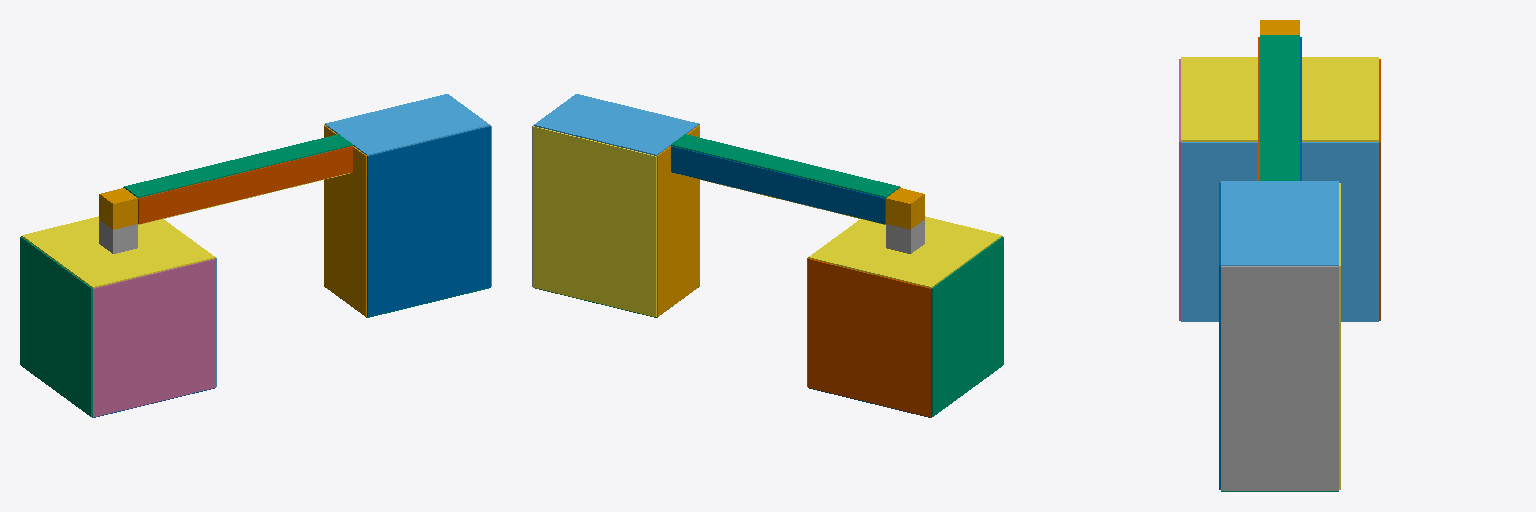
robot.urdf — robot:
<?xml version="1.0"?>
    <robot name="robot">


    <!-- body -->
    <link name="body">
        <inertial>
            <origin xyz="0 0 0" rpy="0 0 0"/>
            <mass value="100"/>
            <inertia ixx="15" ixy="0" ixz="0" iyy="15" iyz="0" izz="15"/>
        </inertial>
        <visual>
            <origin xyz="0 0 0" rpy="0 0 0"/>
            <geometry>
                <box size="1 1 1"/>
            </geometry>
        </visual>
        <collision>
            <origin xyz="0 0 0" rpy="0 0 0"/>
            <geometry>
                <box size="1 1 1"/>
            </geometry>
        </collision>
    </link>


    <!-- body_sensor_0_start -->
    <link name="body_sensor_0_start">
        <inertial>
            <origin xyz="0 0 0" rpy="0 0 0"/>
            <mass value="0"/>
            <inertia ixx="0" ixy="0" ixz="0" iyy="0" iyz="0" izz="0"/>
        </inertial>
        <visual>
            <origin xyz="0 0 0" rpy="0 0 0"/>
            <geometry>
                <box size="0.02 1 1"/>
            </geometry>
        </visual>
        <collision>
            <origin xyz="0 0 0" rpy="0 0 0"/>
            <geometry>
                <box size="0.02 1 1"/>
            </geometry>
        </collision>
    </link>
    <!-- Joint: body, body_sensor_0_start -->
    <joint name="body_body_sensor_0_start_joint" type="fixed">
        <parent link="body"/>
        <child link="body_sensor_0_start"/>
        <origin xyz="0.5 0 0"
                rpy="0 0 0"/>
        <axis xyz="0 0 1"/>
        
    </joint>


    <!-- body_sensor_0_stop -->
    <link name="body_sensor_0_stop">
        <inertial>
            <origin xyz="0 0 0" rpy="0 0 0"/>
            <mass value="0"/>
            <inertia ixx="0" ixy="0" ixz="0" iyy="0" iyz="0" izz="0"/>
        </inertial>
        <visual>
            <origin xyz="0 0 0" rpy="0 0 0"/>
            <geometry>
                <box size="0.02 1 1"/>
            </geometry>
        </visual>
        <collision>
            <origin xyz="0 0 0" rpy="0 0 0"/>
            <geometry>
                <box size="0.02 1 1"/>
            </geometry>
        </collision>
    </link>
    <!-- Joint: body, body_sensor_0_stop -->
    <joint name="body_body_sensor_0_stop_joint" type="fixed">
        <parent link="body"/>
        <child link="body_sensor_0_stop"/>
        <origin xyz="-0.5 0 0"
                rpy="0 0 0"/>
        <axis xyz="0 0 1"/>
        
    </joint>


    <!-- body_sensor_0_top -->
    <link name="body_sensor_0_top">
        <inertial>
            <origin xyz="0 0 0" rpy="0 0 0"/>
            <mass value="0"/>
            <inertia ixx="0" ixy="0" ixz="0" iyy="0" iyz="0" izz="0"/>
        </inertial>
        <visual>
            <origin xyz="0 0 0" rpy="0 0 0"/>
            <geometry>
                <box size="1.0 1 0.02"/>
            </geometry>
        </visual>
        <collision>
            <origin xyz="0 0 0" rpy="0 0 0"/>
            <geometry>
                <box size="1.0 1 0.02"/>
            </geometry>
        </collision>
    </link>
    <!-- Joint: body, body_sensor_0_top -->
    <joint name="body_body_sensor_0_top_joint" type="fixed">
        <parent link="body"/>
        <child link="body_sensor_0_top"/>
        <origin xyz="0 0 0.5"
                rpy="0 0 0"/>
        <axis xyz="0 0 1"/>
        
    </joint>


    <!-- body_sensor_0_bottom -->
    <link name="body_sensor_0_bottom">
        <inertial>
            <origin xyz="0 0 0" rpy="0 0 0"/>
            <mass value="0"/>
            <inertia ixx="0" ixy="0" ixz="0" iyy="0" iyz="0" izz="0"/>
        </inertial>
        <visual>
            <origin xyz="0 0 0" rpy="0 0 0"/>
            <geometry>
                <box size="1.0 1 0.02"/>
            </geometry>
        </visual>
        <collision>
            <origin xyz="0 0 0" rpy="0 0 0"/>
            <geometry>
                <box size="1.0 1 0.02"/>
            </geometry>
        </collision>
    </link>
    <!-- Joint: body, body_sensor_0_bottom -->
    <joint name="body_body_sensor_0_bottom_joint" type="fixed">
        <parent link="body"/>
        <child link="body_sensor_0_bottom"/>
        <origin xyz="0 0 -0.5"
                rpy="0 0 0"/>
        <axis xyz="0 0 1"/>
        
    </joint>


    <!-- body_sensor_0_left -->
    <link name="body_sensor_0_left">
        <inertial>
            <origin xyz="0 0 0" rpy="0 0 0"/>
            <mass value="0"/>
            <inertia ixx="0" ixy="0" ixz="0" iyy="0" iyz="0" izz="0"/>
        </inertial>
        <visual>
            <origin xyz="0 0 0" rpy="0 0 0"/>
            <geometry>
                <box size="1.0 0.02 1"/>
            </geometry>
        </visual>
        <collision>
            <origin xyz="0 0 0" rpy="0 0 0"/>
            <geometry>
                <box size="1.0 0.02 1"/>
            </geometry>
        </collision>
    </link>
    <!-- Joint: body, body_sensor_0_left -->
    <joint name="body_body_sensor_0_left_joint" type="fixed">
        <parent link="body"/>
        <child link="body_sensor_0_left"/>
        <origin xyz="0 0.5 0"
                rpy="0 0 0"/>
        <axis xyz="0 0 1"/>
        
    </joint>


    <!-- body_sensor_0_right -->
    <link name="body_sensor_0_right">
        <inertial>
            <origin xyz="0 0 0" rpy="0 0 0"/>
            <mass value="0"/>
            <inertia ixx="0" ixy="0" ixz="0" iyy="0" iyz="0" izz="0"/>
        </inertial>
        <visual>
            <origin xyz="0 0 0" rpy="0 0 0"/>
            <geometry>
                <box size="1.0 0.02 1"/>
            </geometry>
        </visual>
        <collision>
            <origin xyz="0 0 0" rpy="0 0 0"/>
            <geometry>
                <box size="1.0 0.02 1"/>
            </geometry>
        </collision>
    </link>
    <!-- Joint: body, body_sensor_0_right -->
    <joint name="body_body_sensor_0_right_joint" type="fixed">
        <parent link="body"/>
        <child link="body_sensor_0_right"/>
        <origin xyz="0 -0.5 0"
                rpy="0 0 0"/>
        <axis xyz="0 0 1"/>
        
    </joint>


    <!-- joint_1 -->
    <link name="joint_1">
        <inertial>
            <origin xyz="0 0 0" rpy="0 0 0"/>
            <mass value="2"/>
            <inertia ixx="0.01" ixy="0" ixz="0" iyy="0.01" iyz="0" izz="0.01"/>
        </inertial>
        <visual>
            <origin xyz="0 0 0" rpy="0 0 0"/>
            <geometry>
                <box size="0.2 0.2 0.2"/>
            </geometry>
        </visual>
        <collision>
            <origin xyz="0 0 0" rpy="0 0 0"/>
            <geometry>
                <box size="0.2 0.2 0.2"/>
            </geometry>
        </collision>
    </link>
    <!-- Joint: body, joint_1 -->
    <joint name="body_joint_1_joint" type="continuous">
        <parent link="body"/>
        <child link="joint_1"/>
        <origin xyz="0 0 0.6"
                rpy="0 0 0"/>
        <axis xyz="0 0 1"/>
        <limit lower="-0.7853981633974483" upper="0.7853981633974483" effort="999" velocity="999"/>
    </joint>


    <!-- joint_2 -->
    <link name="joint_2">
        <inertial>
            <origin xyz="0 0 0" rpy="0 0 0"/>
            <mass value="2"/>
            <inertia ixx="0.01" ixy="0" ixz="0" iyy="0.01" iyz="0" izz="0.01"/>
        </inertial>
        <visual>
            <origin xyz="0 0 0" rpy="0 0 0"/>
            <geometry>
                <box size="0.2 0.2 0.2"/>
            </geometry>
        </visual>
        <collision>
            <origin xyz="0 0 0" rpy="0 0 0"/>
            <geometry>
                <box size="0.2 0.2 0.2"/>
            </geometry>
        </collision>
    </link>
    <!-- Joint: joint_1, joint_2 -->
    <joint name="joint_1_joint_2_joint" type="continuous">
        <parent link="joint_1"/>
        <child link="joint_2"/>
        <origin xyz="0 0 0.2"
                rpy="0 0 0"/>
        <axis xyz="0 1 0"/>
        <limit lower="-1.5707963267948966" upper="0" effort="999" velocity="999"/>
    </joint>


    <!-- arm -->
    <link name="arm">
        <inertial>
            <origin xyz="0 0 0" rpy="0 0 0"/>
            <mass value="2"/>
            <inertia ixx="0.01" ixy="0" ixz="0" iyy="1.25" iyz="0" izz="1.25"/>
        </inertial>
        <visual>
            <origin xyz="0 0 0" rpy="0 0 0"/>
            <geometry>
                <box size="1.75 0.2 0.2"/>
            </geometry>
        </visual>
        <collision>
            <origin xyz="0 0 0" rpy="0 0 0"/>
            <geometry>
                <box size="1.75 0.2 0.2"/>
            </geometry>
        </collision>
    </link>


    <!-- arm_sensor_0_top -->
    <link name="arm_sensor_0_top">
        <inertial>
            <origin xyz="0 0 0" rpy="0 0 0"/>
            <mass value="0"/>
            <inertia ixx="0" ixy="0" ixz="0" iyy="0" iyz="0" izz="0"/>
        </inertial>
        <visual>
            <origin xyz="0 0 0" rpy="0 0 0"/>
            <geometry>
                <box size="1.75 0.2 0.02"/>
            </geometry>
        </visual>
        <collision>
            <origin xyz="0 0 0" rpy="0 0 0"/>
            <geometry>
                <box size="1.75 0.2 0.02"/>
            </geometry>
        </collision>
    </link>
    <!-- Joint: arm, arm_sensor_0_top -->
    <joint name="arm_arm_sensor_0_top_joint" type="fixed">
        <parent link="arm"/>
        <child link="arm_sensor_0_top"/>
        <origin xyz="0 0 0.1"
                rpy="0 0 0"/>
        <axis xyz="0 1 0"/>
        
    </joint>


    <!-- arm_sensor_0_bottom -->
    <link name="arm_sensor_0_bottom">
        <inertial>
            <origin xyz="0 0 0" rpy="0 0 0"/>
            <mass value="0"/>
            <inertia ixx="0" ixy="0" ixz="0" iyy="0" iyz="0" izz="0"/>
        </inertial>
        <visual>
            <origin xyz="0 0 0" rpy="0 0 0"/>
            <geometry>
                <box size="1.75 0.2 0.02"/>
            </geometry>
        </visual>
        <collision>
            <origin xyz="0 0 0" rpy="0 0 0"/>
            <geometry>
                <box size="1.75 0.2 0.02"/>
            </geometry>
        </collision>
    </link>
    <!-- Joint: arm, arm_sensor_0_bottom -->
    <joint name="arm_arm_sensor_0_bottom_joint" type="fixed">
        <parent link="arm"/>
        <child link="arm_sensor_0_bottom"/>
        <origin xyz="0 0 -0.1"
                rpy="0 0 0"/>
        <axis xyz="0 1 0"/>
        
    </joint>


    <!-- arm_sensor_0_left -->
    <link name="arm_sensor_0_left">
        <inertial>
            <origin xyz="0 0 0" rpy="0 0 0"/>
            <mass value="0"/>
            <inertia ixx="0" ixy="0" ixz="0" iyy="0" iyz="0" izz="0"/>
        </inertial>
        <visual>
            <origin xyz="0 0 0" rpy="0 0 0"/>
            <geometry>
                <box size="1.75 0.02 0.2"/>
            </geometry>
        </visual>
        <collision>
            <origin xyz="0 0 0" rpy="0 0 0"/>
            <geometry>
                <box size="1.75 0.02 0.2"/>
            </geometry>
        </collision>
    </link>
    <!-- Joint: arm, arm_sensor_0_left -->
    <joint name="arm_arm_sensor_0_left_joint" type="fixed">
        <parent link="arm"/>
        <child link="arm_sensor_0_left"/>
        <origin xyz="0 0.1 0"
                rpy="0 0 0"/>
        <axis xyz="0 1 0"/>
        
    </joint>


    <!-- arm_sensor_0_right -->
    <link name="arm_sensor_0_right">
        <inertial>
            <origin xyz="0 0 0" rpy="0 0 0"/>
            <mass value="0"/>
            <inertia ixx="0" ixy="0" ixz="0" iyy="0" iyz="0" izz="0"/>
        </inertial>
        <visual>
            <origin xyz="0 0 0" rpy="0 0 0"/>
            <geometry>
                <box size="1.75 0.02 0.2"/>
            </geometry>
        </visual>
        <collision>
            <origin xyz="0 0 0" rpy="0 0 0"/>
            <geometry>
                <box size="1.75 0.02 0.2"/>
            </geometry>
        </collision>
    </link>
    <!-- Joint: arm, arm_sensor_0_right -->
    <joint name="arm_arm_sensor_0_right_joint" type="fixed">
        <parent link="arm"/>
        <child link="arm_sensor_0_right"/>
        <origin xyz="0 -0.1 0"
                rpy="0 0 0"/>
        <axis xyz="0 1 0"/>
        
    </joint>
    <!-- Joint: joint_2, arm -->
    <joint name="joint_2_arm_joint" type="fixed">
        <parent link="joint_2"/>
        <child link="arm"/>
        <origin xyz="0.975 0 0"
                rpy="0 0 0"/>
        <axis xyz="0 1 0"/>
        
    </joint>


    <!-- hand -->
    <link name="hand">
        <inertial>
            <origin xyz="0 0 0" rpy="0 0 0"/>
            <mass value="2"/>
            <inertia ixx="0.05" ixy="0.05" ixz="0.05" iyy="0.05" iyz="0.05" izz="0.05"/>
        </inertial>
        <visual>
            <origin xyz="0 0 0" rpy="0 0 0"/>
            <geometry>
                <box size="1 0.6000000000000001 1.25"/>
            </geometry>
        </visual>
        <collision>
            <origin xyz="0 0 0" rpy="0 0 0"/>
            <geometry>
                <box size="1 0.6000000000000001 1.25"/>
            </geometry>
        </collision>
    </link>


    <!-- hand_sensor_0_start -->
    <link name="hand_sensor_0_start">
        <inertial>
            <origin xyz="0 0 0" rpy="0 0 0"/>
            <mass value="0"/>
            <inertia ixx="0" ixy="0" ixz="0" iyy="0" iyz="0" izz="0"/>
        </inertial>
        <visual>
            <origin xyz="0 0 0" rpy="0 0 0"/>
            <geometry>
                <box size="0.02 0.6000000000000001 1.25"/>
            </geometry>
        </visual>
        <collision>
            <origin xyz="0 0 0" rpy="0 0 0"/>
            <geometry>
                <box size="0.02 0.6000000000000001 1.25"/>
            </geometry>
        </collision>
    </link>
    <!-- Joint: hand, hand_sensor_0_start -->
    <joint name="hand_hand_sensor_0_start_joint" type="fixed">
        <parent link="hand"/>
        <child link="hand_sensor_0_start"/>
        <origin xyz="0.5 0 0"
                rpy="0 0 0"/>
        <axis xyz="0 1 0"/>
        
    </joint>


    <!-- hand_sensor_0_stop -->
    <link name="hand_sensor_0_stop">
        <inertial>
            <origin xyz="0 0 0" rpy="0 0 0"/>
            <mass value="0"/>
            <inertia ixx="0" ixy="0" ixz="0" iyy="0" iyz="0" izz="0"/>
        </inertial>
        <visual>
            <origin xyz="0 0 0" rpy="0 0 0"/>
            <geometry>
                <box size="0.02 0.6000000000000001 1.25"/>
            </geometry>
        </visual>
        <collision>
            <origin xyz="0 0 0" rpy="0 0 0"/>
            <geometry>
                <box size="0.02 0.6000000000000001 1.25"/>
            </geometry>
        </collision>
    </link>
    <!-- Joint: hand, hand_sensor_0_stop -->
    <joint name="hand_hand_sensor_0_stop_joint" type="fixed">
        <parent link="hand"/>
        <child link="hand_sensor_0_stop"/>
        <origin xyz="-0.5 0 0"
                rpy="0 0 0"/>
        <axis xyz="0 1 0"/>
        
    </joint>


    <!-- hand_sensor_0_top -->
    <link name="hand_sensor_0_top">
        <inertial>
            <origin xyz="0 0 0" rpy="0 0 0"/>
            <mass value="0"/>
            <inertia ixx="0" ixy="0" ixz="0" iyy="0" iyz="0" izz="0"/>
        </inertial>
        <visual>
            <origin xyz="0 0 0" rpy="0 0 0"/>
            <geometry>
                <box size="1.0 0.6000000000000001 0.02"/>
            </geometry>
        </visual>
        <collision>
            <origin xyz="0 0 0" rpy="0 0 0"/>
            <geometry>
                <box size="1.0 0.6000000000000001 0.02"/>
            </geometry>
        </collision>
    </link>
    <!-- Joint: hand, hand_sensor_0_top -->
    <joint name="hand_hand_sensor_0_top_joint" type="fixed">
        <parent link="hand"/>
        <child link="hand_sensor_0_top"/>
        <origin xyz="0 0 0.625"
                rpy="0 0 0"/>
        <axis xyz="0 1 0"/>
        
    </joint>


    <!-- hand_sensor_0_bottom -->
    <link name="hand_sensor_0_bottom">
        <inertial>
            <origin xyz="0 0 0" rpy="0 0 0"/>
            <mass value="0"/>
            <inertia ixx="0" ixy="0" ixz="0" iyy="0" iyz="0" izz="0"/>
        </inertial>
        <visual>
            <origin xyz="0 0 0" rpy="0 0 0"/>
            <geometry>
                <box size="1.0 0.6000000000000001 0.02"/>
            </geometry>
        </visual>
        <collision>
            <origin xyz="0 0 0" rpy="0 0 0"/>
            <geometry>
                <box size="1.0 0.6000000000000001 0.02"/>
            </geometry>
        </collision>
    </link>
    <!-- Joint: hand, hand_sensor_0_bottom -->
    <joint name="hand_hand_sensor_0_bottom_joint" type="fixed">
        <parent link="hand"/>
        <child link="hand_sensor_0_bottom"/>
        <origin xyz="0 0 -0.625"
                rpy="0 0 0"/>
        <axis xyz="0 1 0"/>
        
    </joint>


    <!-- hand_sensor_0_left -->
    <link name="hand_sensor_0_left">
        <inertial>
            <origin xyz="0 0 0" rpy="0 0 0"/>
            <mass value="0"/>
            <inertia ixx="0" ixy="0" ixz="0" iyy="0" iyz="0" izz="0"/>
        </inertial>
        <visual>
            <origin xyz="0 0 0" rpy="0 0 0"/>
            <geometry>
                <box size="1.0 0.02 1.25"/>
            </geometry>
        </visual>
        <collision>
            <origin xyz="0 0 0" rpy="0 0 0"/>
            <geometry>
                <box size="1.0 0.02 1.25"/>
            </geometry>
        </collision>
    </link>
    <!-- Joint: hand, hand_sensor_0_left -->
    <joint name="hand_hand_sensor_0_left_joint" type="fixed">
        <parent link="hand"/>
        <child link="hand_sensor_0_left"/>
        <origin xyz="0 0.30000000000000004 0"
                rpy="0 0 0"/>
        <axis xyz="0 1 0"/>
        
    </joint>


    <!-- hand_sensor_0_right -->
    <link name="hand_sensor_0_right">
        <inertial>
            <origin xyz="0 0 0" rpy="0 0 0"/>
            <mass value="0"/>
            <inertia ixx="0" ixy="0" ixz="0" iyy="0" iyz="0" izz="0"/>
        </inertial>
        <visual>
            <origin xyz="0 0 0" rpy="0 0 0"/>
            <geometry>
                <box size="1.0 0.02 1.25"/>
            </geometry>
        </visual>
        <collision>
            <origin xyz="0 0 0" rpy="0 0 0"/>
            <geometry>
                <box size="1.0 0.02 1.25"/>
            </geometry>
        </collision>
    </link>
    <!-- Joint: hand, hand_sensor_0_right -->
    <joint name="hand_hand_sensor_0_right_joint" type="fixed">
        <parent link="hand"/>
        <child link="hand_sensor_0_right"/>
        <origin xyz="0 -0.30000000000000004 0"
                rpy="0 0 0"/>
        <axis xyz="0 1 0"/>
        
    </joint>
    <!-- Joint: arm, hand -->
    <joint name="arm_hand_joint" type="fixed">
        <parent link="arm"/>
        <child link="hand"/>
        <origin xyz="1.375 0 -0.525"
                rpy="0 0 0"/>
        <axis xyz="0 1 0"/>
        
    </joint>


</robot>

--- Facts derived from the render (not from the file) ---
The picture shows the robot from 3 angles, left to right: view 1: azimuth 30°, elevation 25°; view 2: azimuth 150°, elevation 25°; view 3: azimuth 270°, elevation 25°; orthographic projection.
Model robot with 21 links and 20 joints (2 continuous, 18 fixed), rooted at body, posed every joint at zero.
Visible links, largest first — view 1: hand_sensor_0_right, body_sensor_0_right, body_sensor_0_stop, body_sensor_0_top, hand_sensor_0_stop, arm_sensor_0_right, hand_sensor_0_top, arm_sensor_0_top, joint_2, joint_1; view 2: hand_sensor_0_left, body_sensor_0_left, body_sensor_0_stop, body_sensor_0_top, hand_sensor_0_stop, arm_sensor_0_left, hand_sensor_0_top, arm_sensor_0_top, joint_2, joint_1; view 3: hand_sensor_0_start, body_sensor_0_start, body_sensor_0_top, hand_sensor_0_top, arm_sensor_0_top, hand_sensor_0_left, hand_sensor_0_right, joint_2.
Boxes of the visible links, x1,y1,x2,y2 form: hand_sensor_0_right: [367, 126, 490, 316]; body_sensor_0_right: [93, 258, 215, 417]; body_sensor_0_stop: [20, 237, 92, 416]; body_sensor_0_top: [22, 216, 215, 287]; hand_sensor_0_stop: [324, 125, 366, 316]; arm_sensor_0_right: [138, 146, 352, 223]; hand_sensor_0_top: [325, 94, 489, 155]; arm_sensor_0_top: [124, 134, 352, 197]; joint_2: [99, 188, 137, 229]; joint_1: [99, 220, 137, 253]; hand_sensor_0_left: [533, 126, 656, 316]; body_sensor_0_left: [808, 258, 930, 417]; body_sensor_0_stop: [931, 237, 1003, 416]; body_sensor_0_top: [808, 216, 1001, 287]; hand_sensor_0_stop: [657, 125, 699, 316]; arm_sensor_0_left: [671, 146, 885, 223]; hand_sensor_0_top: [534, 94, 698, 155]; arm_sensor_0_top: [671, 134, 899, 197]; joint_2: [886, 188, 924, 229]; joint_1: [886, 220, 924, 253]; hand_sensor_0_start: [1221, 266, 1338, 490]; body_sensor_0_start: [1181, 142, 1378, 321]; body_sensor_0_top: [1181, 57, 1378, 141]; hand_sensor_0_top: [1221, 181, 1338, 265]; arm_sensor_0_top: [1260, 35, 1299, 180]; hand_sensor_0_left: [1339, 183, 1340, 489]; hand_sensor_0_right: [1219, 183, 1220, 489]; joint_2: [1260, 20, 1299, 34].
Bounding box of the posed robot: 3.37 × 1.02 × 1.42 m (x, y, z).
Geometry: primitives only (box / cylinder / sphere), no mesh files.